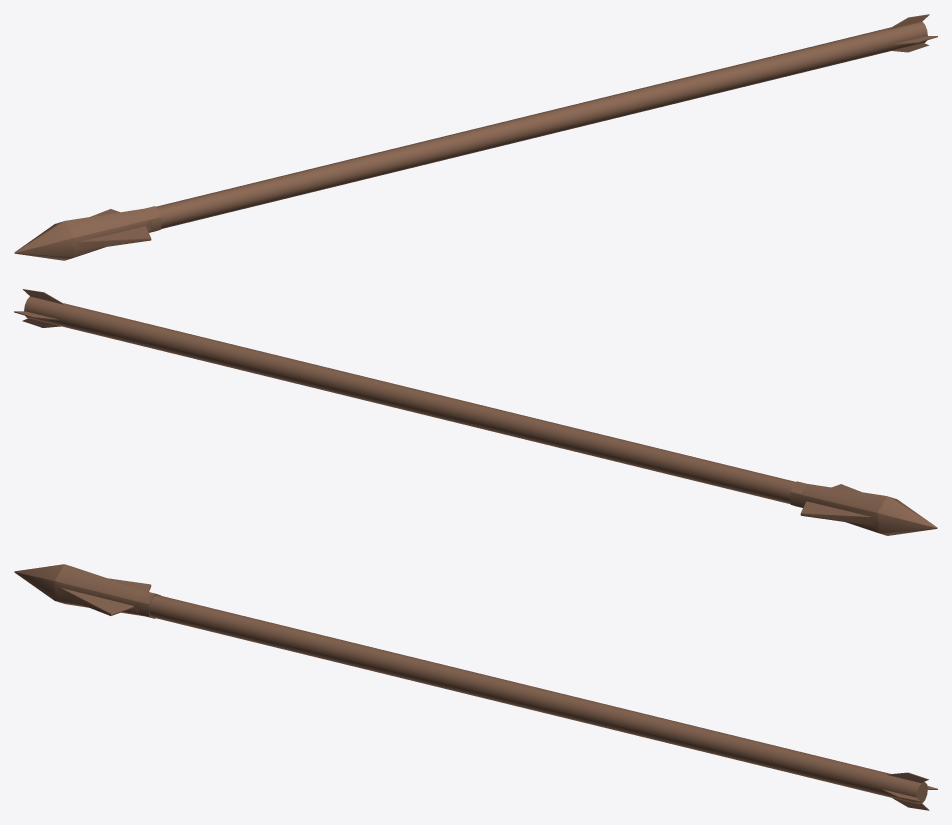
The model's file is arrow_low.fbx.
3 views of the same model, one above another, from view 1: azimuth 30°, elevation 25°; view 2: azimuth 150°, elevation 25°; view 3: azimuth 330°, elevation 25° (orthographic).
Visible parts, largest first — view 1: Cylinder.028; view 2: Cylinder.028; view 3: Cylinder.028.
Boxes of the visible parts, left/top/right/bottom form: Cylinder.028: left=14, top=14, right=937, bottom=260; Cylinder.028: left=14, top=289, right=937, bottom=535; Cylinder.028: left=14, top=564, right=937, bottom=810.
Bounding box in the file's own units: 1280 × 52.61 × 97.56.
